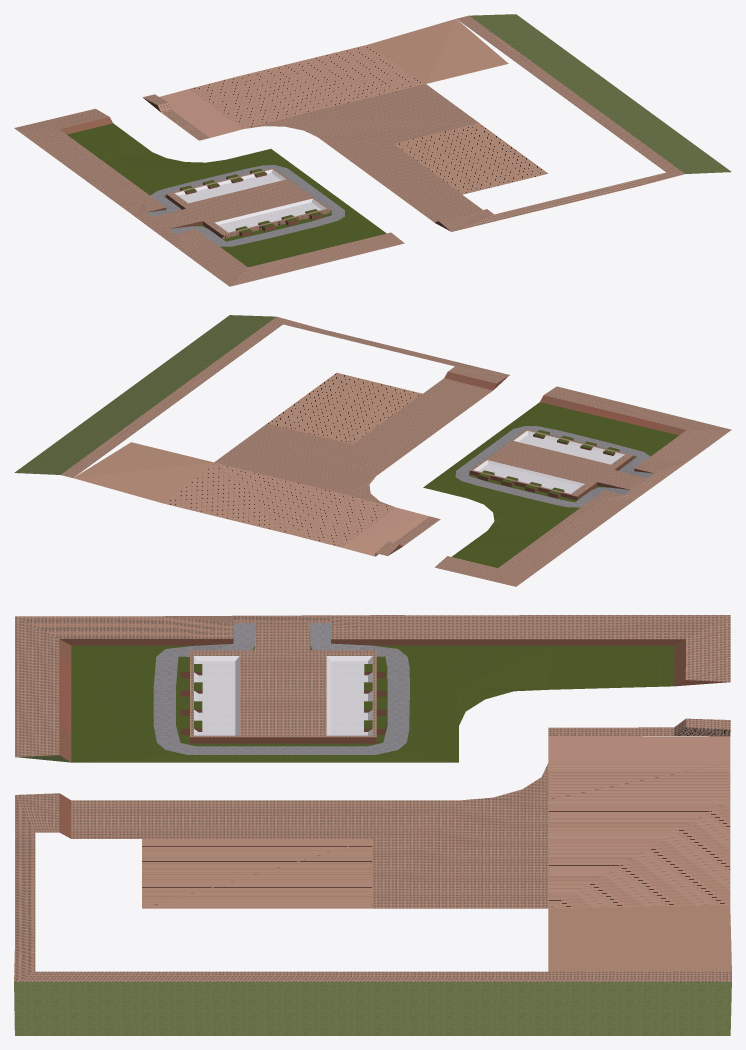
File: lodeedge21.obj
The picture shows the model from 3 angles, top to bottom: view 1: azimuth 30°, elevation 25°; view 2: azimuth 150°, elevation 25°; view 3: azimuth 270°, elevation 25°; orthographic projection. The views are drawn at different scales.
Visible parts, largest first — view 1: lodEedge21; view 2: lodEedge21; view 3: lodEedge21.
Boxes of the visible parts, <box> form: lodEedge21: <box>14,14,731,286</box>; lodEedge21: <box>14,315,731,586</box>; lodEedge21: <box>14,615,731,1035</box>.
Size of the model in its own units: 215 by 3.95 by 161.
6 materials, 6 textured.
